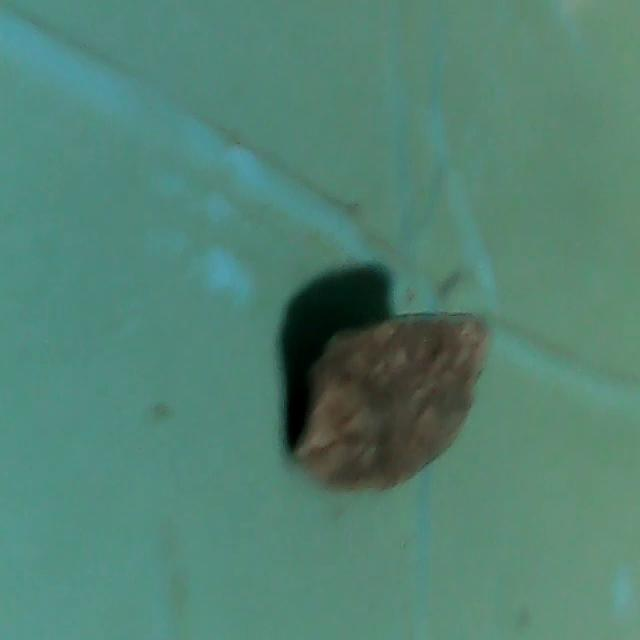rock: (268, 297, 495, 498)
